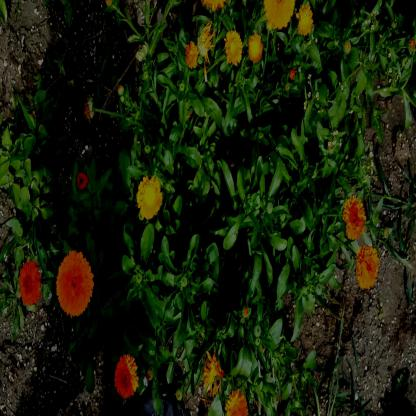marigold: (55, 251, 91, 316), (112, 352, 138, 399), (137, 176, 161, 220), (18, 262, 41, 306), (342, 196, 365, 238), (356, 247, 377, 291), (204, 352, 228, 390), (264, 0, 294, 28), (226, 390, 247, 416), (226, 34, 241, 63), (248, 36, 263, 61), (298, 8, 313, 32)
